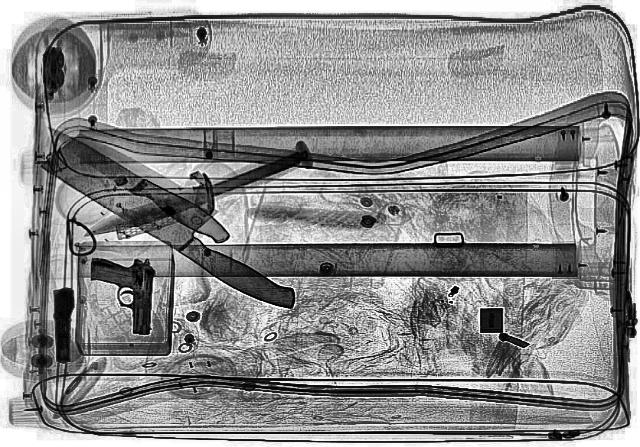Gun: (88, 258, 156, 334), (52, 287, 74, 363)
Knife: (31, 127, 331, 317), (36, 118, 238, 245), (74, 150, 310, 242)
